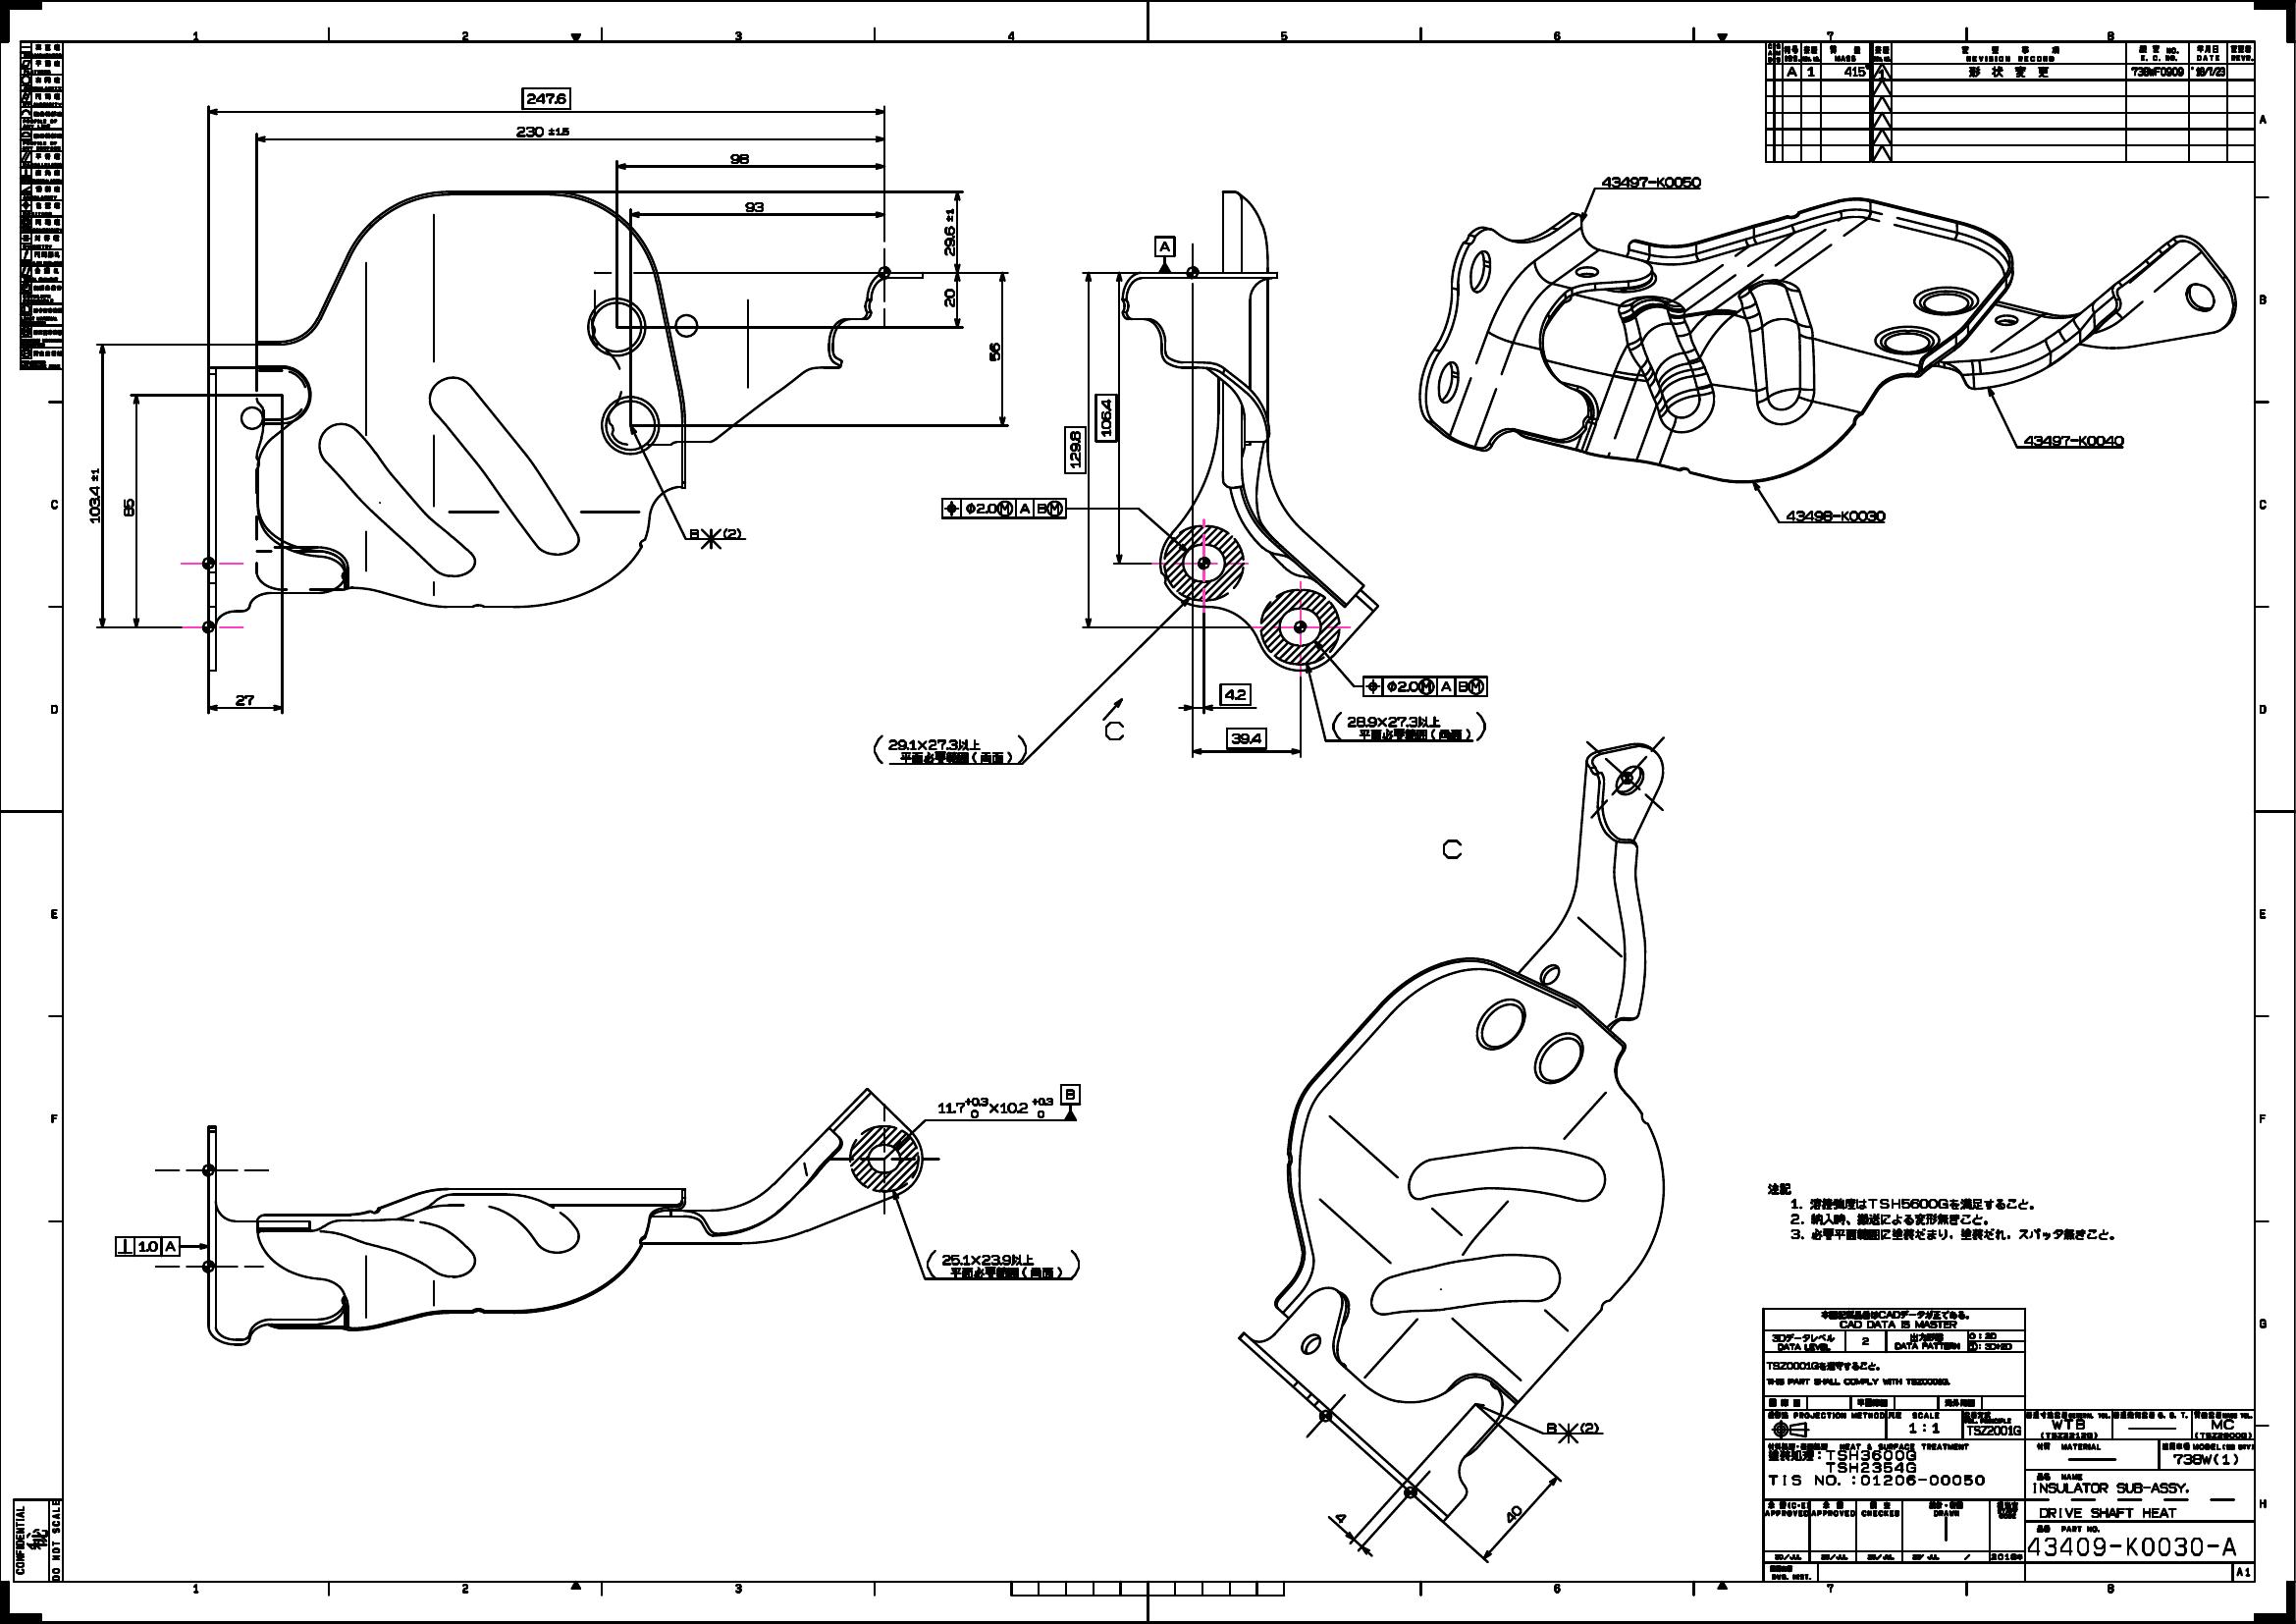anntotation_text: (1765, 1179, 2115, 1244), (12, 1497, 63, 1584), (899, 750, 1012, 765), (1785, 508, 1887, 522), (1600, 174, 1702, 188), (2024, 434, 2126, 446), (1358, 729, 1470, 740), (950, 1267, 1063, 1278), (1437, 675, 1488, 698), (1015, 497, 1066, 518), (1361, 675, 1383, 698), (1059, 1083, 1080, 1106), (1440, 838, 1463, 859), (114, 1236, 135, 1257), (1103, 719, 1124, 740), (1154, 236, 1175, 257), (942, 497, 961, 518), (162, 1236, 181, 1257), (1546, 1420, 1558, 1432), (689, 527, 699, 538)
dimension_text: (936, 1097, 1054, 1118), (940, 1251, 1036, 1265), (1383, 675, 1437, 698), (522, 86, 571, 111), (1346, 715, 1442, 728), (1094, 392, 1117, 443), (887, 738, 980, 750), (959, 499, 1015, 518), (1065, 425, 1087, 473), (1226, 726, 1267, 749), (513, 123, 571, 139), (1217, 682, 1251, 707), (88, 468, 102, 524), (942, 207, 956, 257), (135, 1236, 160, 1257), (727, 151, 752, 163), (943, 285, 956, 308), (121, 497, 135, 517), (235, 692, 255, 707), (987, 341, 1000, 362), (745, 200, 764, 213), (722, 527, 741, 538), (1579, 1422, 1599, 1432), (1504, 1508, 1523, 1519), (1335, 1512, 1346, 1522)
object: (206, 192, 924, 671), (1240, 743, 1664, 1520), (1421, 197, 2236, 483), (207, 1086, 922, 1346), (1121, 190, 1379, 671)
title_block: (1760, 1308, 2256, 1580), (1764, 40, 2256, 162), (18, 39, 61, 371)
